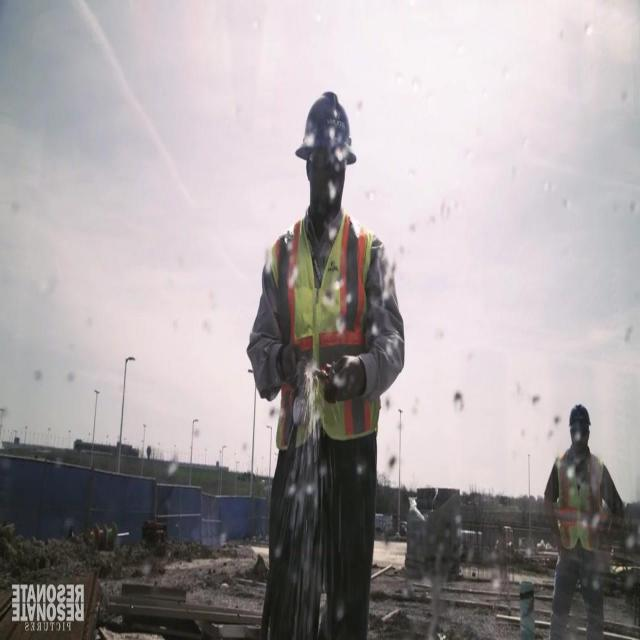Reflective-Jacket: (255, 211, 398, 470), (543, 444, 613, 568)
Safety-Helmet: (292, 83, 358, 173), (560, 392, 598, 442)
